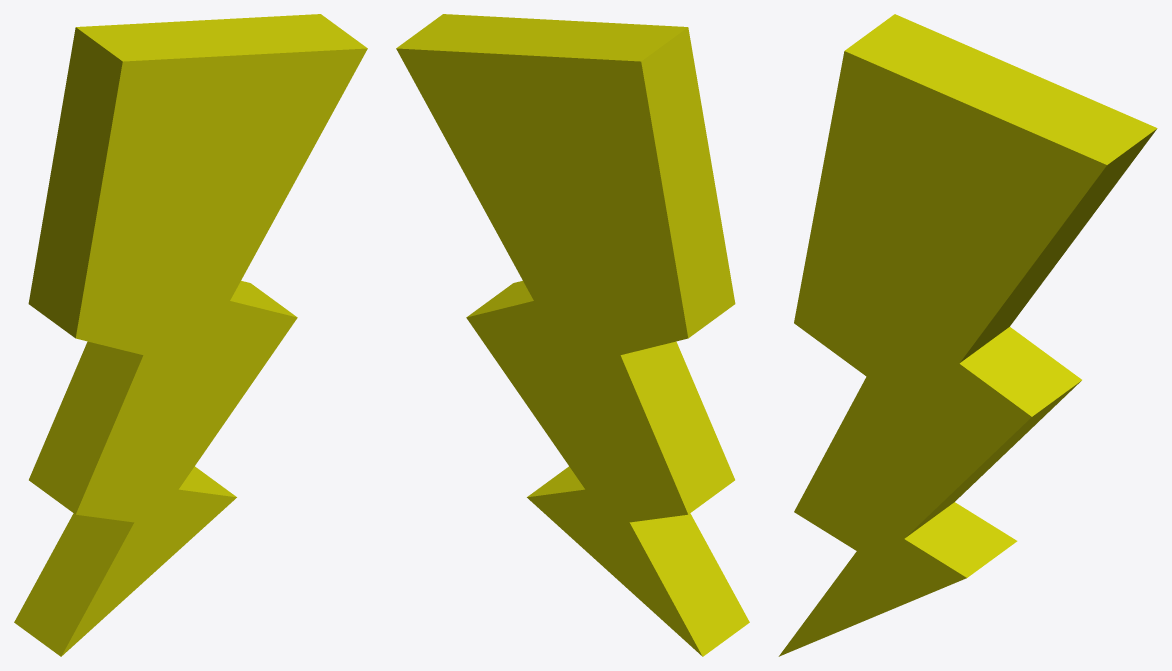
Rendered from ItemFoudroiement.fbx.
3 renders of one model, left to right at view 1: azimuth 30°, elevation 25°; view 2: azimuth 150°, elevation 25°; view 3: azimuth 330°, elevation 25°, orthographic. The views are drawn at different scales.
Visible parts, largest first — view 1: Plane_009; view 2: Plane_009; view 3: Plane_009.
Boxes of the visible parts, box(x1,y1,x2,y2) form: Plane_009: box(14, 14, 367, 656); Plane_009: box(396, 14, 749, 656); Plane_009: box(778, 14, 1157, 656).
Size of the model in its own units: 0.6016 by 1.09 by 0.16.
